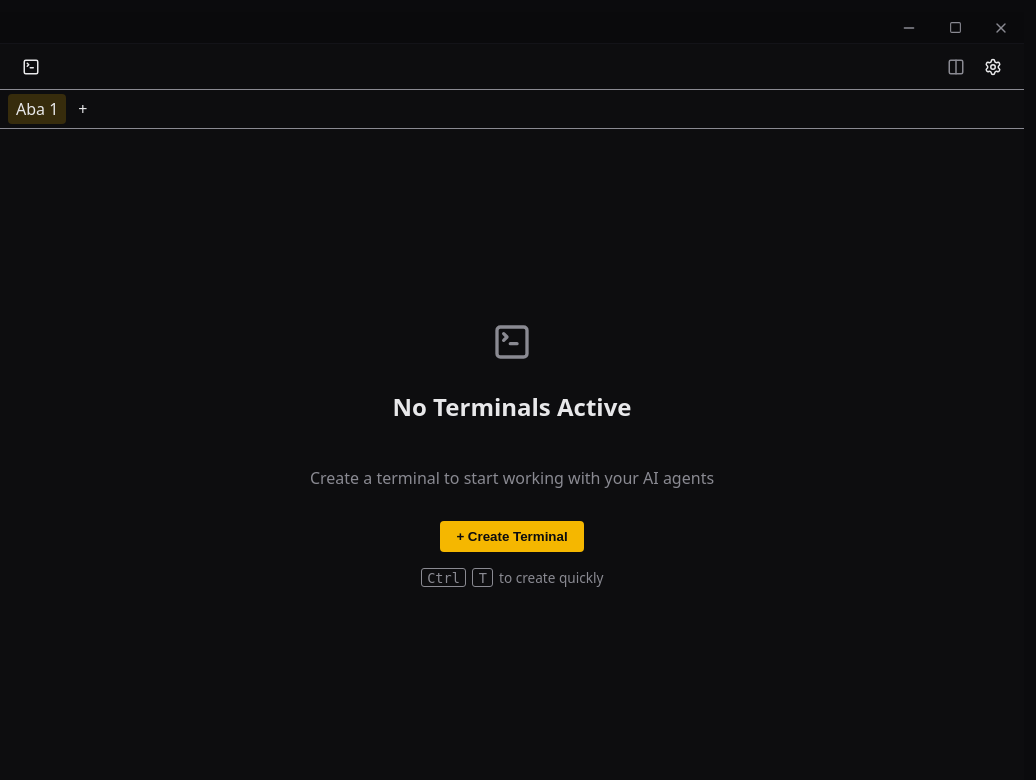
Scenario: App - shell-chrome wiring › Header's "new terminal" icon opens the pane wizard, same as the old button (HDR-08, PROJ-11)
Click the button named "new terminal" at [31, 67], box x1=16 y1=52 x2=45 y2=81
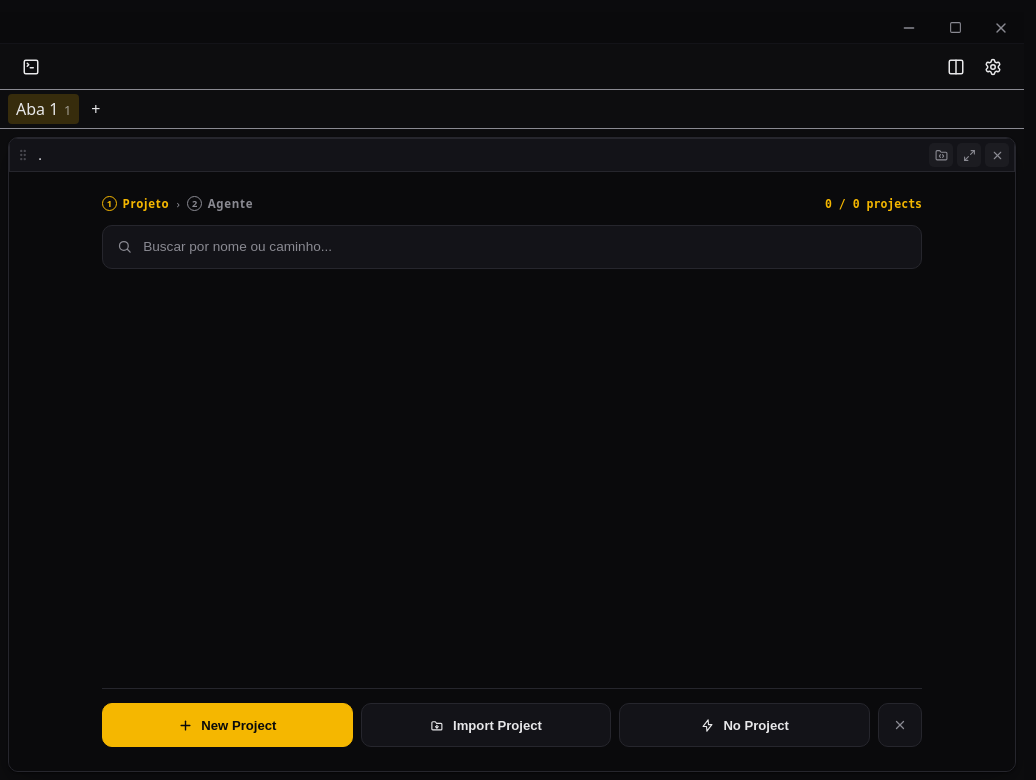
Now the number of search fields named "Buscar projetos" is 1, box x1=141 y1=238 x2=907 y2=255
